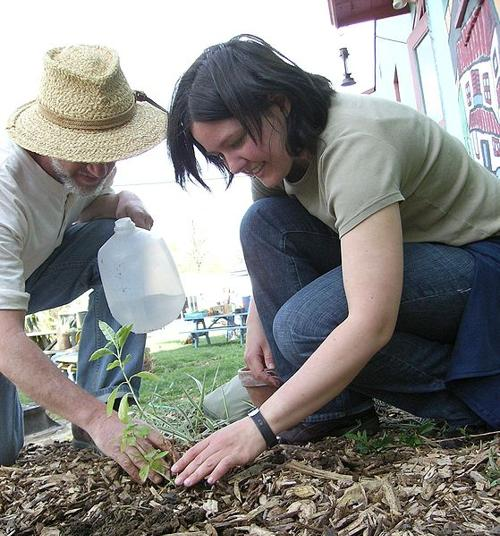person: (161, 32, 500, 486)
